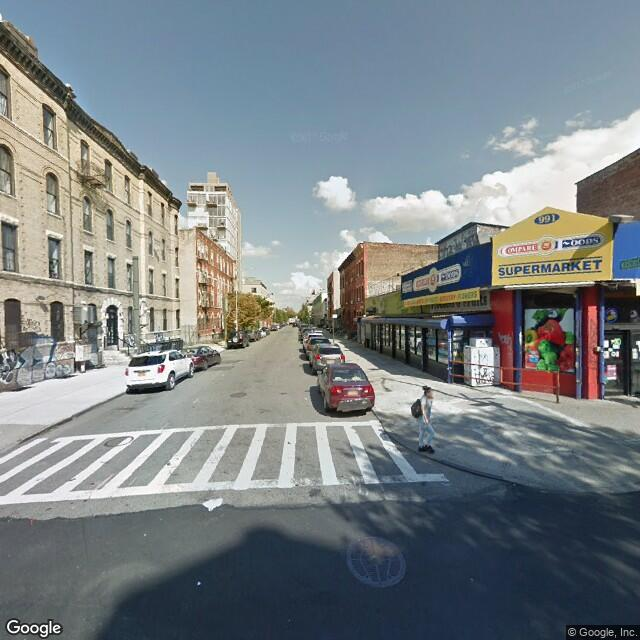litter: (193, 577, 206, 594)
